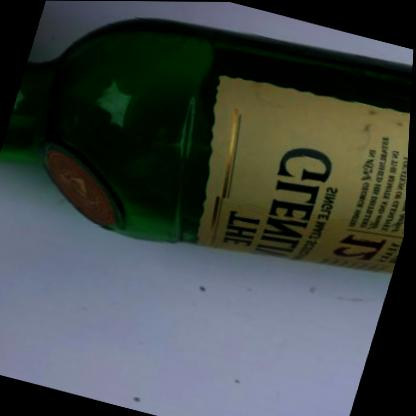Glass: (0, 17, 413, 272)
